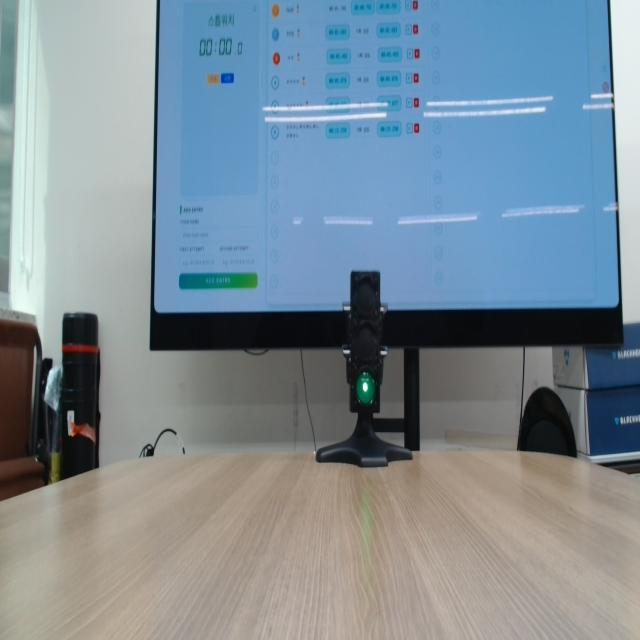green_light: (356, 373, 375, 406)
